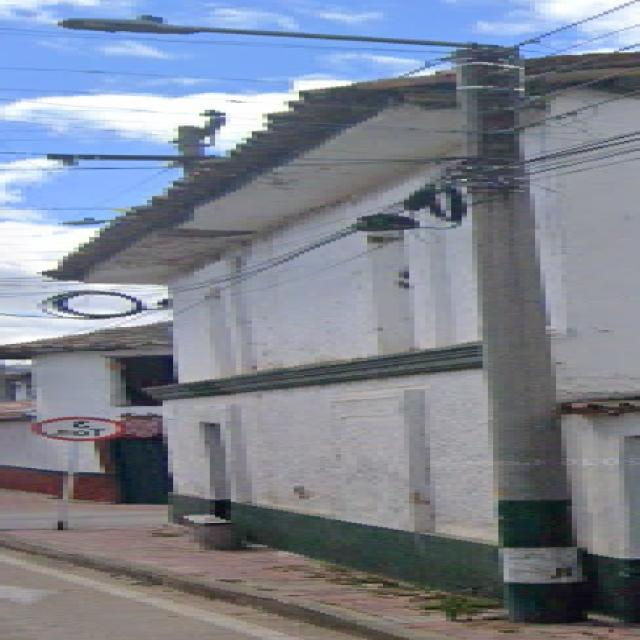Fachada: (58, 73, 493, 593), (525, 54, 640, 619)
Poste: (63, 17, 588, 622)
